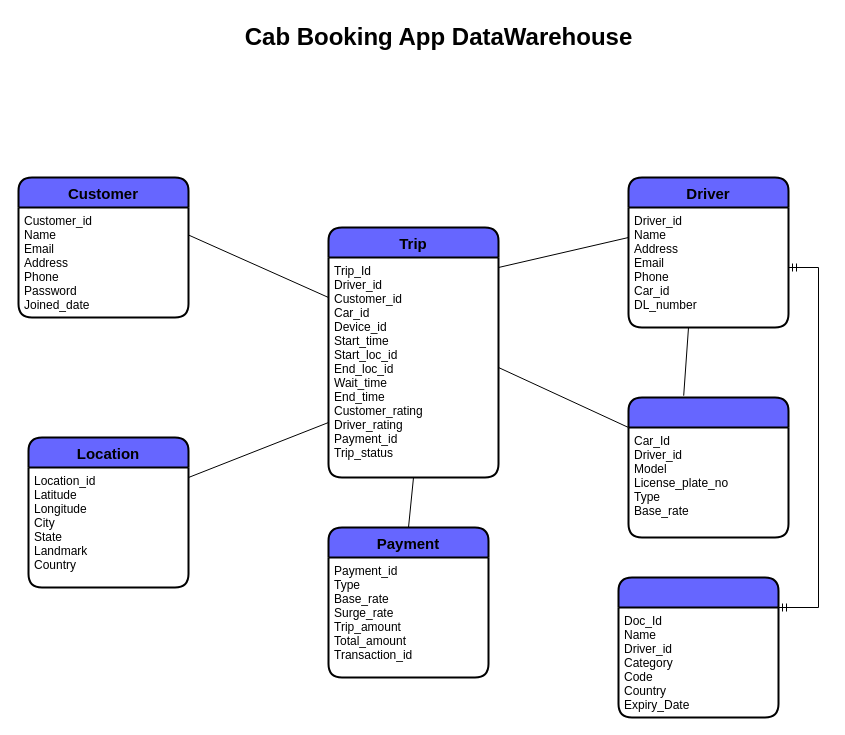
Some shapes in this 845 by 735 pixel diagram are drawn without their labels. The box of each missing label's shape, as (x1, y1, x2, y2) in pixels:
Cars: (627, 396, 789, 538)
Documents: (617, 576, 779, 718)
